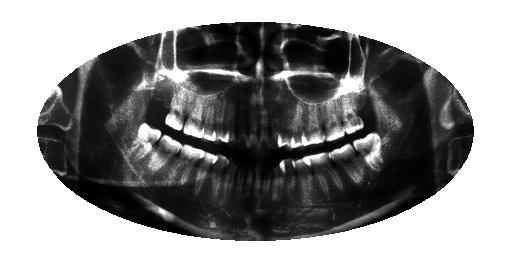Cavity: (222, 156, 240, 208), (259, 107, 273, 153), (238, 103, 251, 151)
